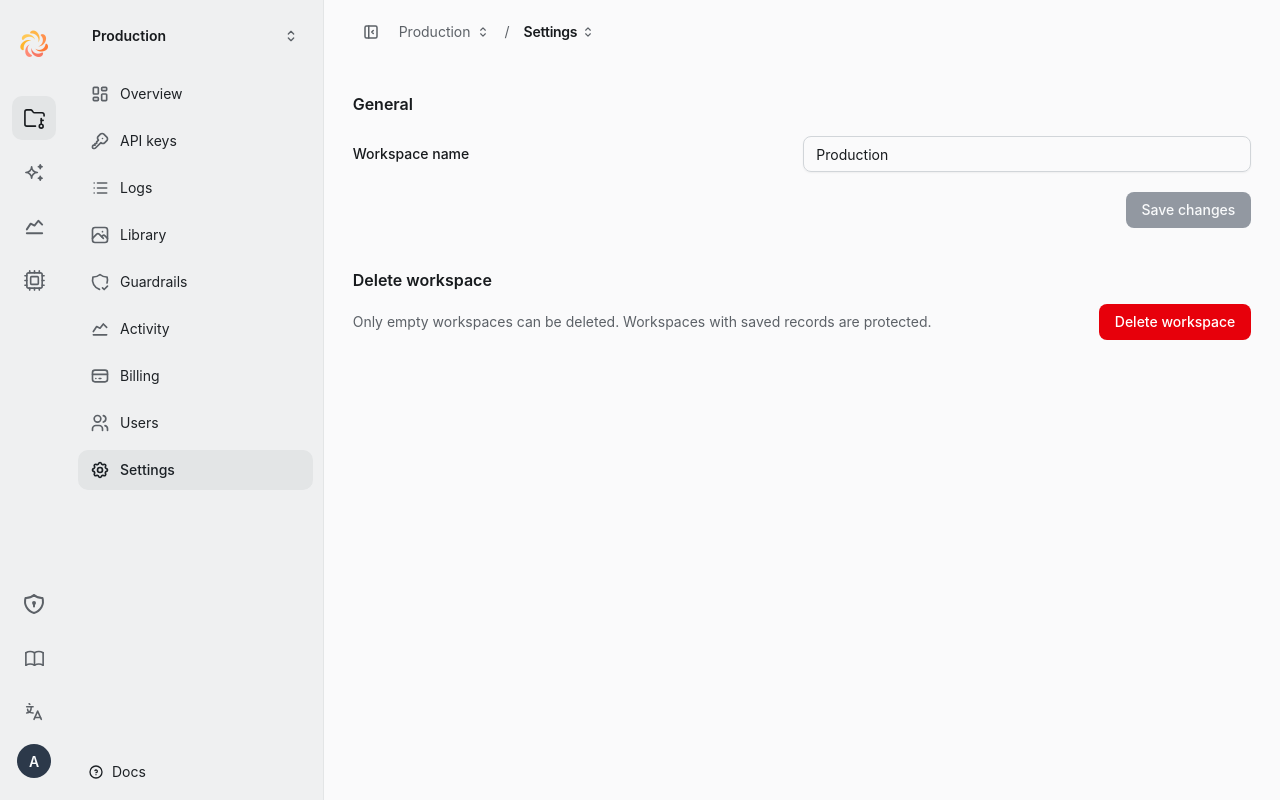
Test: dashboard route layout › keeps the selected workspace when an earlier rename finishes
Replace the text in the field labelled "Workspace name" with "Customer support" at (1027, 154), box x1=803 y1=136 x2=1251 y2=172
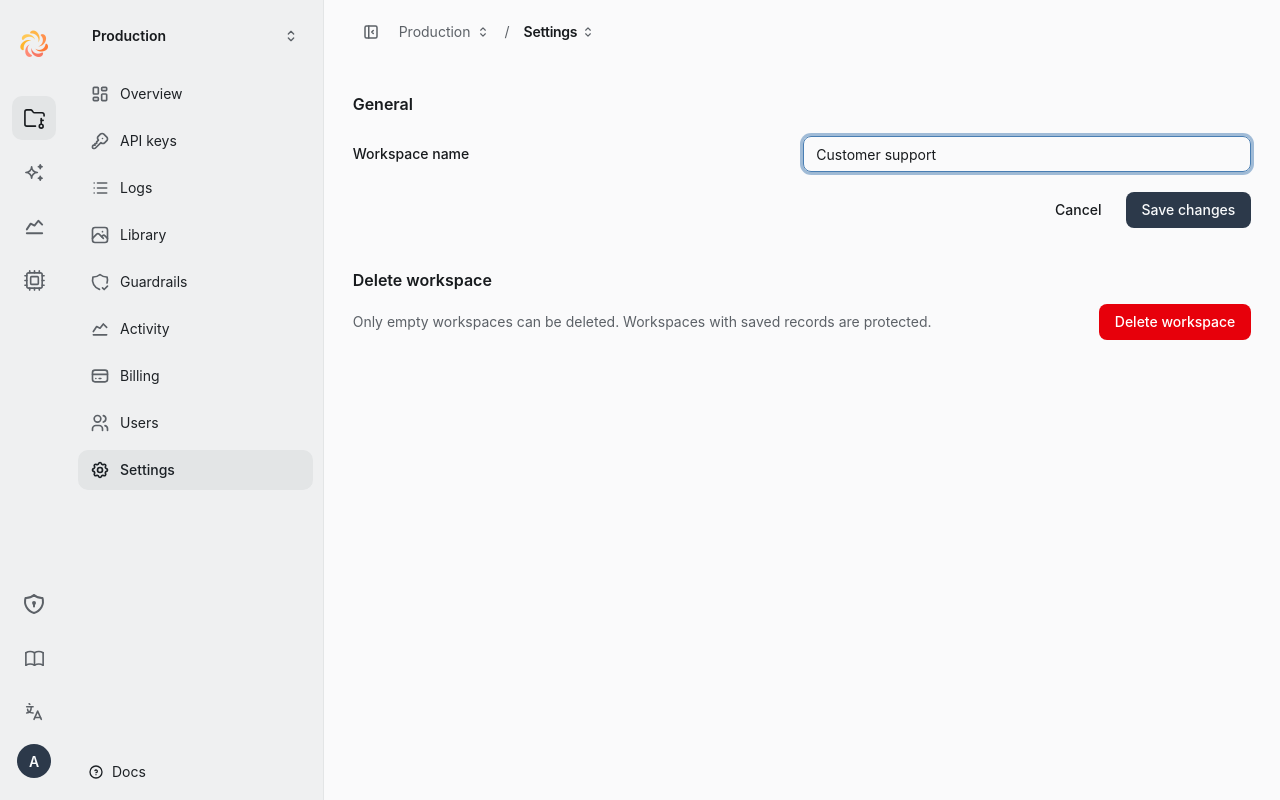
Click the button "Save changes".
click(1188, 210)  # box x1=1126 y1=192 x2=1251 y2=228
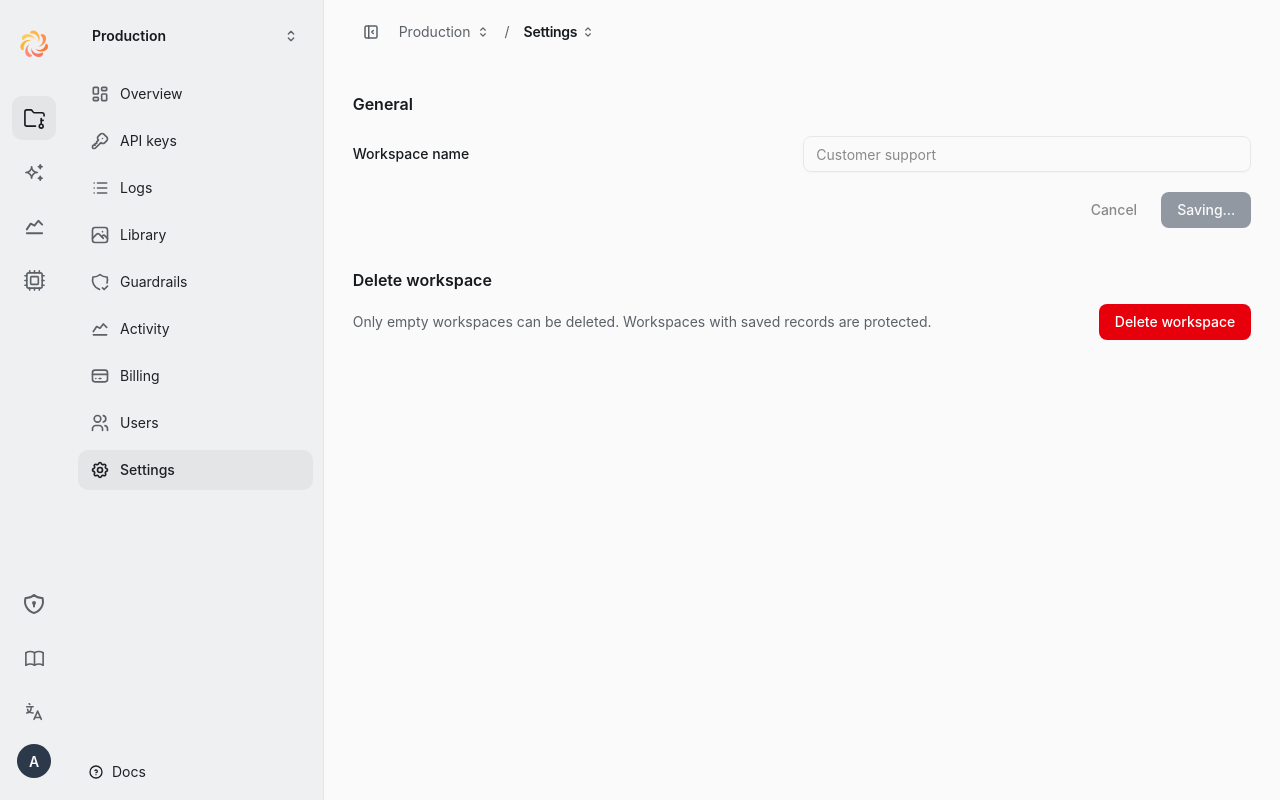
Click the button named "Switch workspace in header".
click(482, 32)  # box x1=470 y1=20 x2=494 y2=44
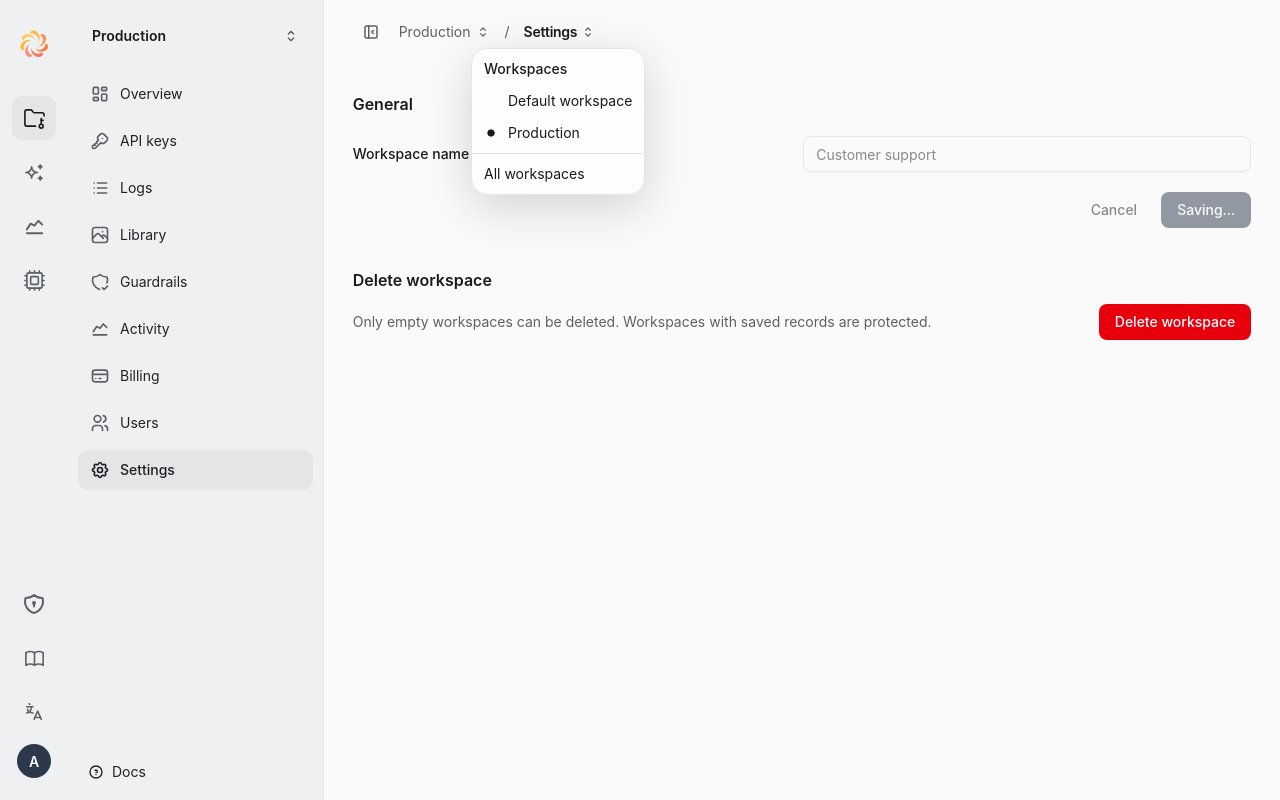
Click the menu item "Default workspace".
click(570, 100)  # box x1=508 y1=92 x2=632 y2=109
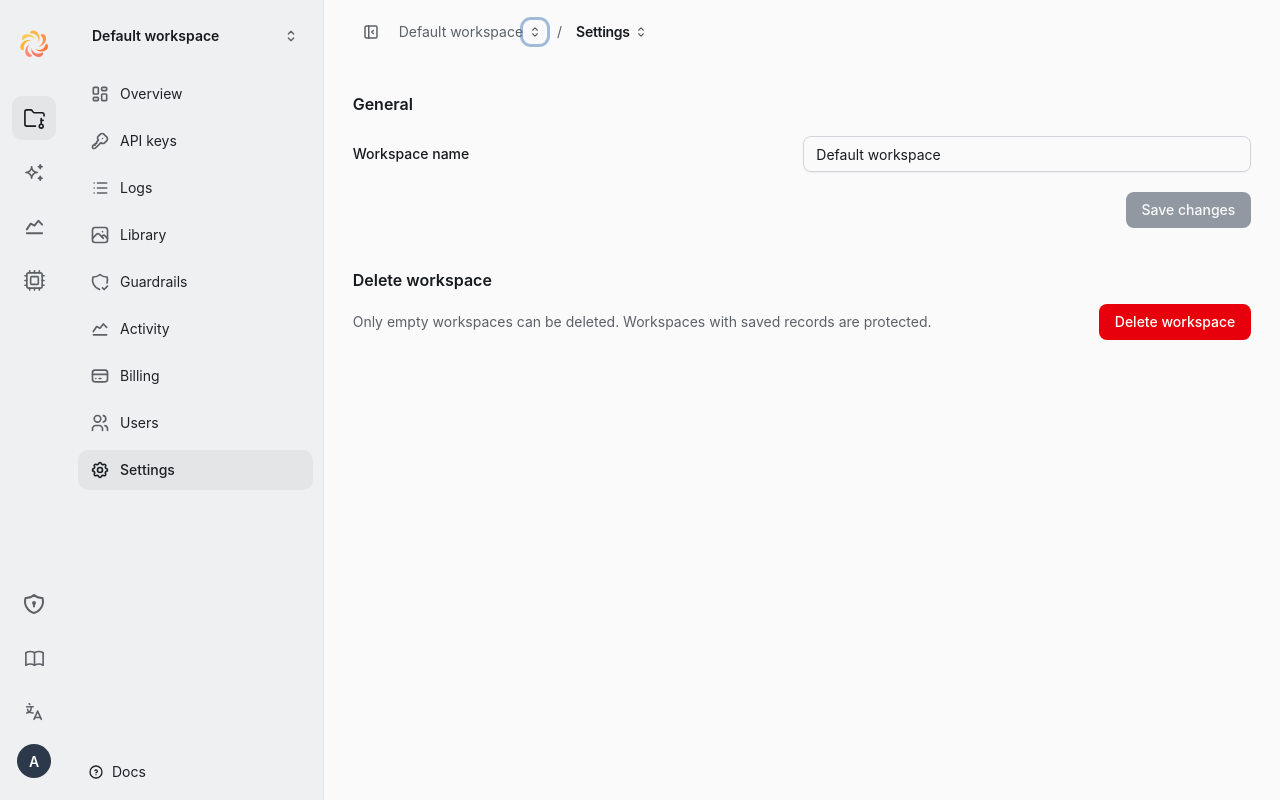
Check: the field labelled "Workspace name" holds "Default workspace", box x1=803 y1=136 x2=1251 y2=172
Click the button named "Switch workspace in header".
click(535, 32)  # box x1=523 y1=20 x2=547 y2=44
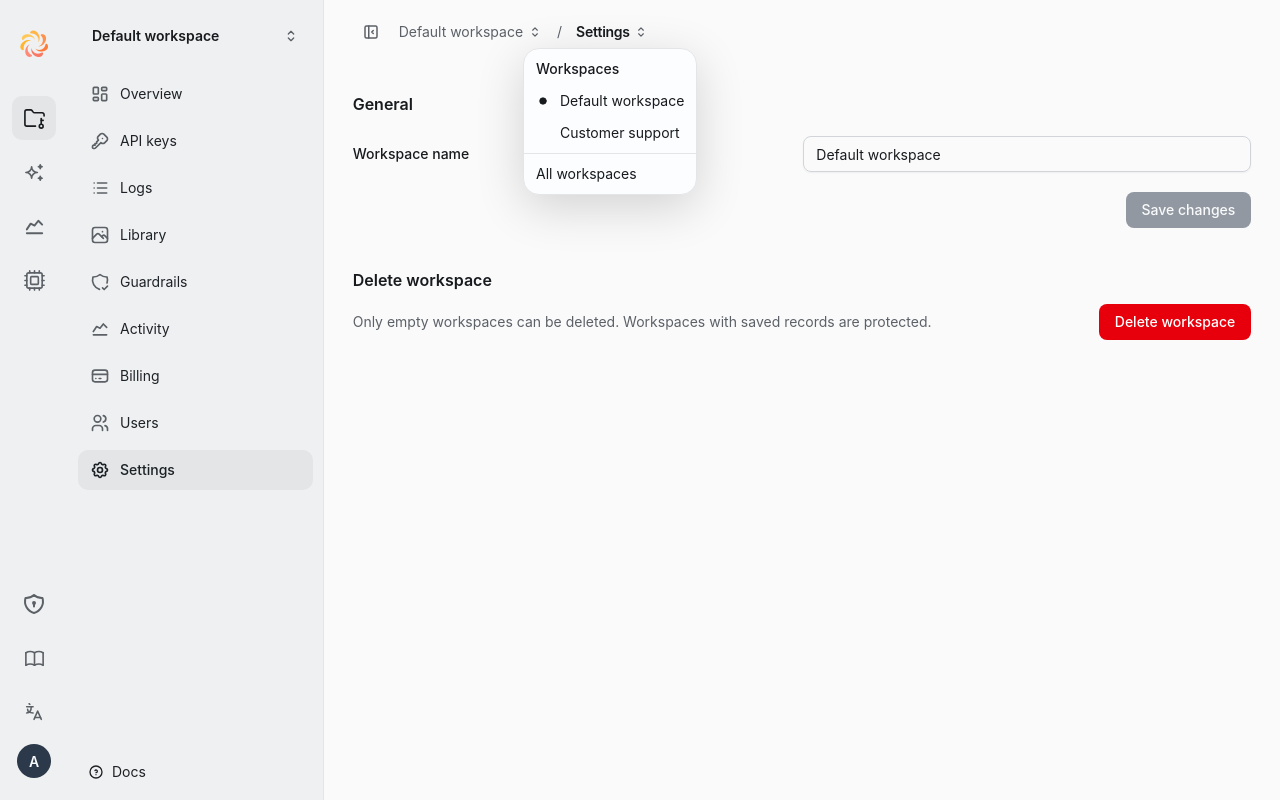
Check: the menu item "Customer support" is shown, box x1=560 y1=124 x2=680 y2=141
